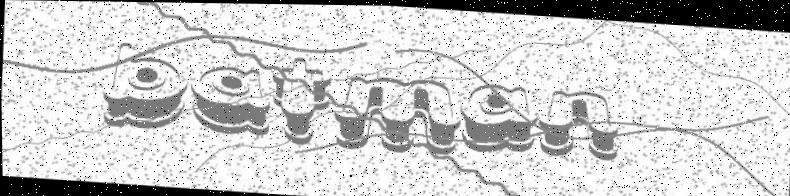a: (187, 63, 273, 136), (457, 80, 537, 155)
b: (100, 39, 188, 131)
m: (331, 74, 461, 155)
n: (536, 87, 622, 161)
t: (268, 54, 333, 145)
